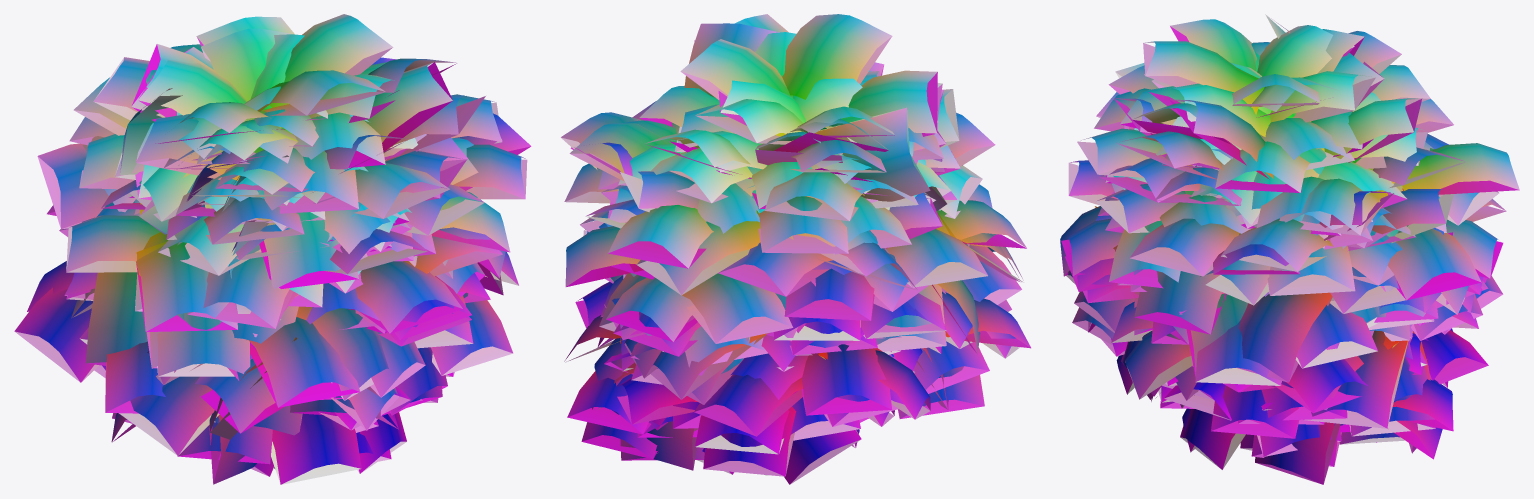
Rendered from elm_02_1.fbx.
3 views of the same model, side by side, from view 1: azimuth 30°, elevation 25°; view 2: azimuth 150°, elevation 25°; view 3: azimuth 270°, elevation 25° (orthographic). The views are drawn at different scales.
Visible parts, largest first — view 1: elm_rought_leaves_02_1_lod_0, elm_rought_leaves_02_1_shadow; view 2: elm_rought_leaves_02_1_lod_0, elm_rought_leaves_02_1_shadow; view 3: elm_rought_leaves_02_1_lod_0, elm_rought_leaves_02_1_shadow.
Part boxes in pixels (bbox=[...]): elm_rought_leaves_02_1_lod_0: bbox=[14, 14, 530, 484]; elm_rought_leaves_02_1_shadow: bbox=[14, 37, 530, 484]; elm_rought_leaves_02_1_lod_0: bbox=[561, 14, 1030, 484]; elm_rought_leaves_02_1_shadow: bbox=[561, 36, 1030, 484]; elm_rought_leaves_02_1_lod_0: bbox=[1060, 17, 1519, 484]; elm_rought_leaves_02_1_shadow: bbox=[1061, 14, 1519, 484].
Size of what is drawn, in the model's own units: 13.36 by 12.55 by 12.81.
